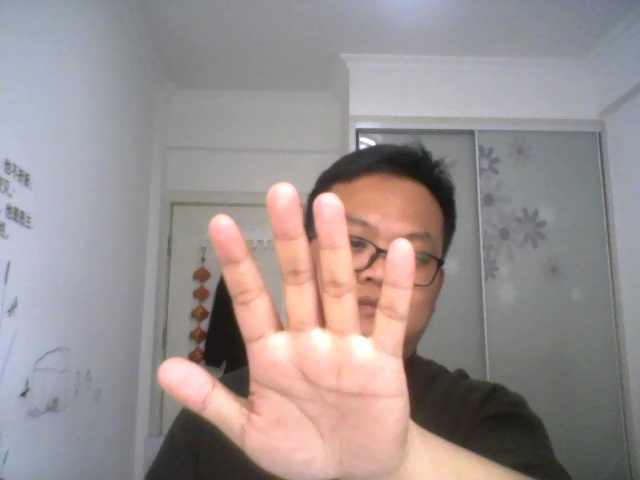Hello: (150, 180, 423, 479)
